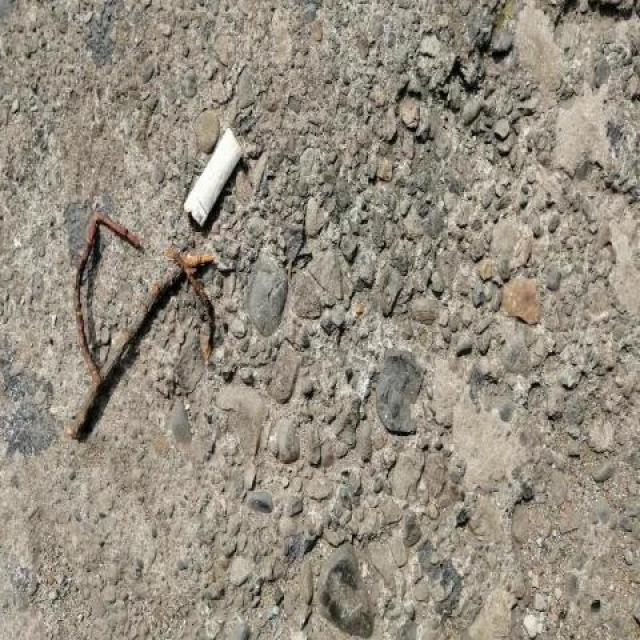non-organic waste: (176, 122, 248, 234)
